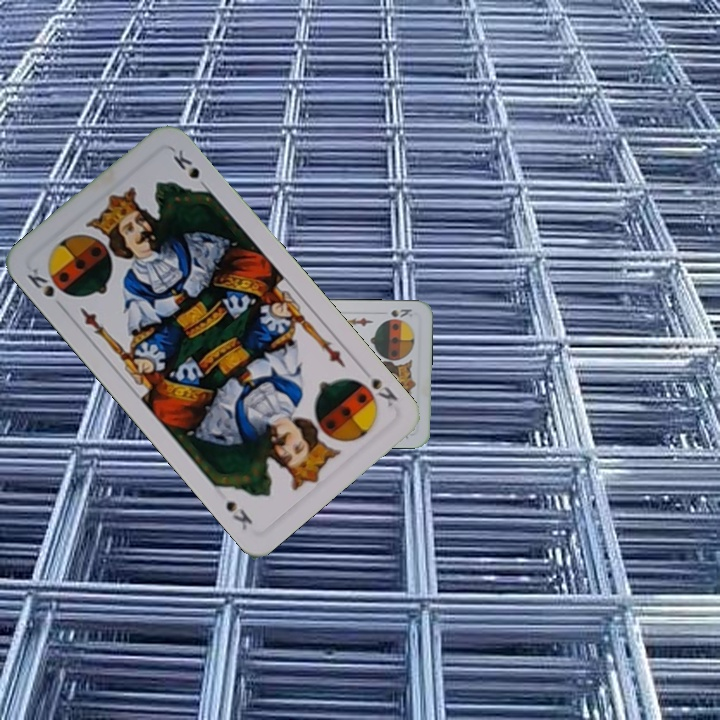SK: (23, 264, 68, 313), (356, 364, 401, 410), (387, 305, 415, 321)
